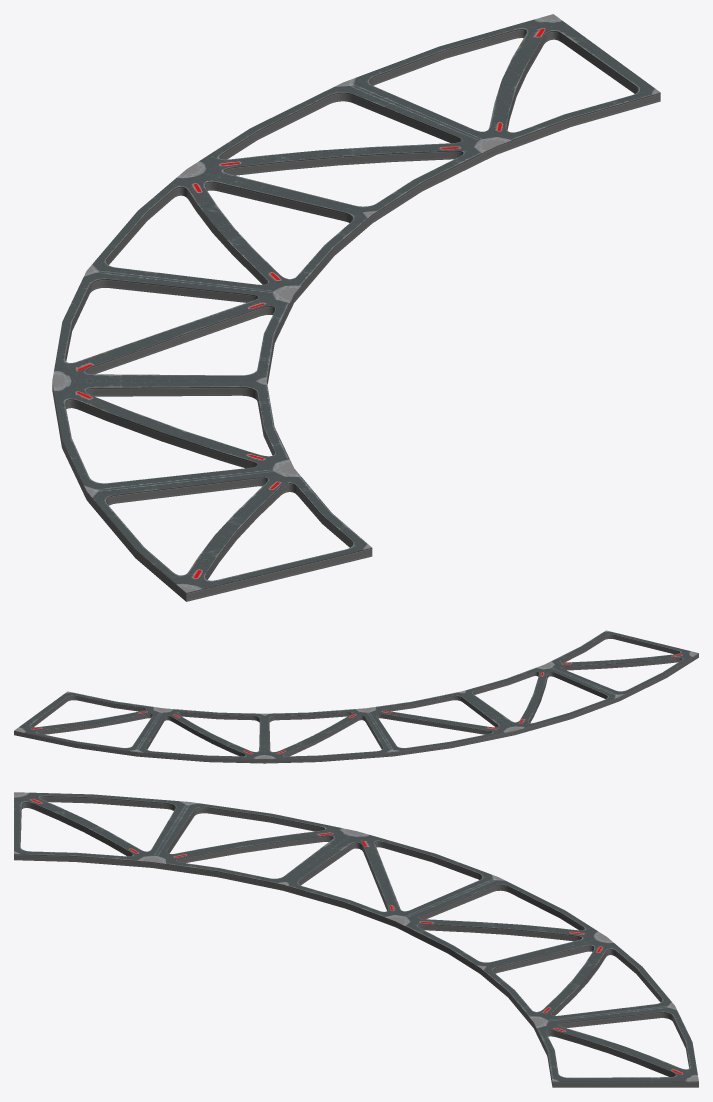
File: sf_beam_curve.glb
3 views of the same model, one above another, from view 1: azimuth 30°, elevation 25°; view 2: azimuth 150°, elevation 25°; view 3: azimuth 270°, elevation 25° (orthographic). The views are drawn at different scales.
Parts seen in each view (by area): view 1: Column_MetalSupport_Curve; view 2: Column_MetalSupport_Curve; view 3: Column_MetalSupport_Curve.
Part boxes in pixels (<box>): Column_MetalSupport_Curve: <box>52,14,660,601</box>; Column_MetalSupport_Curve: <box>14,630,698,763</box>; Column_MetalSupport_Curve: <box>14,792,698,1087</box>.
Bounding box in the file's own units: 4.47 × 0.044 × 4.47.
2 materials, 2 textured.
